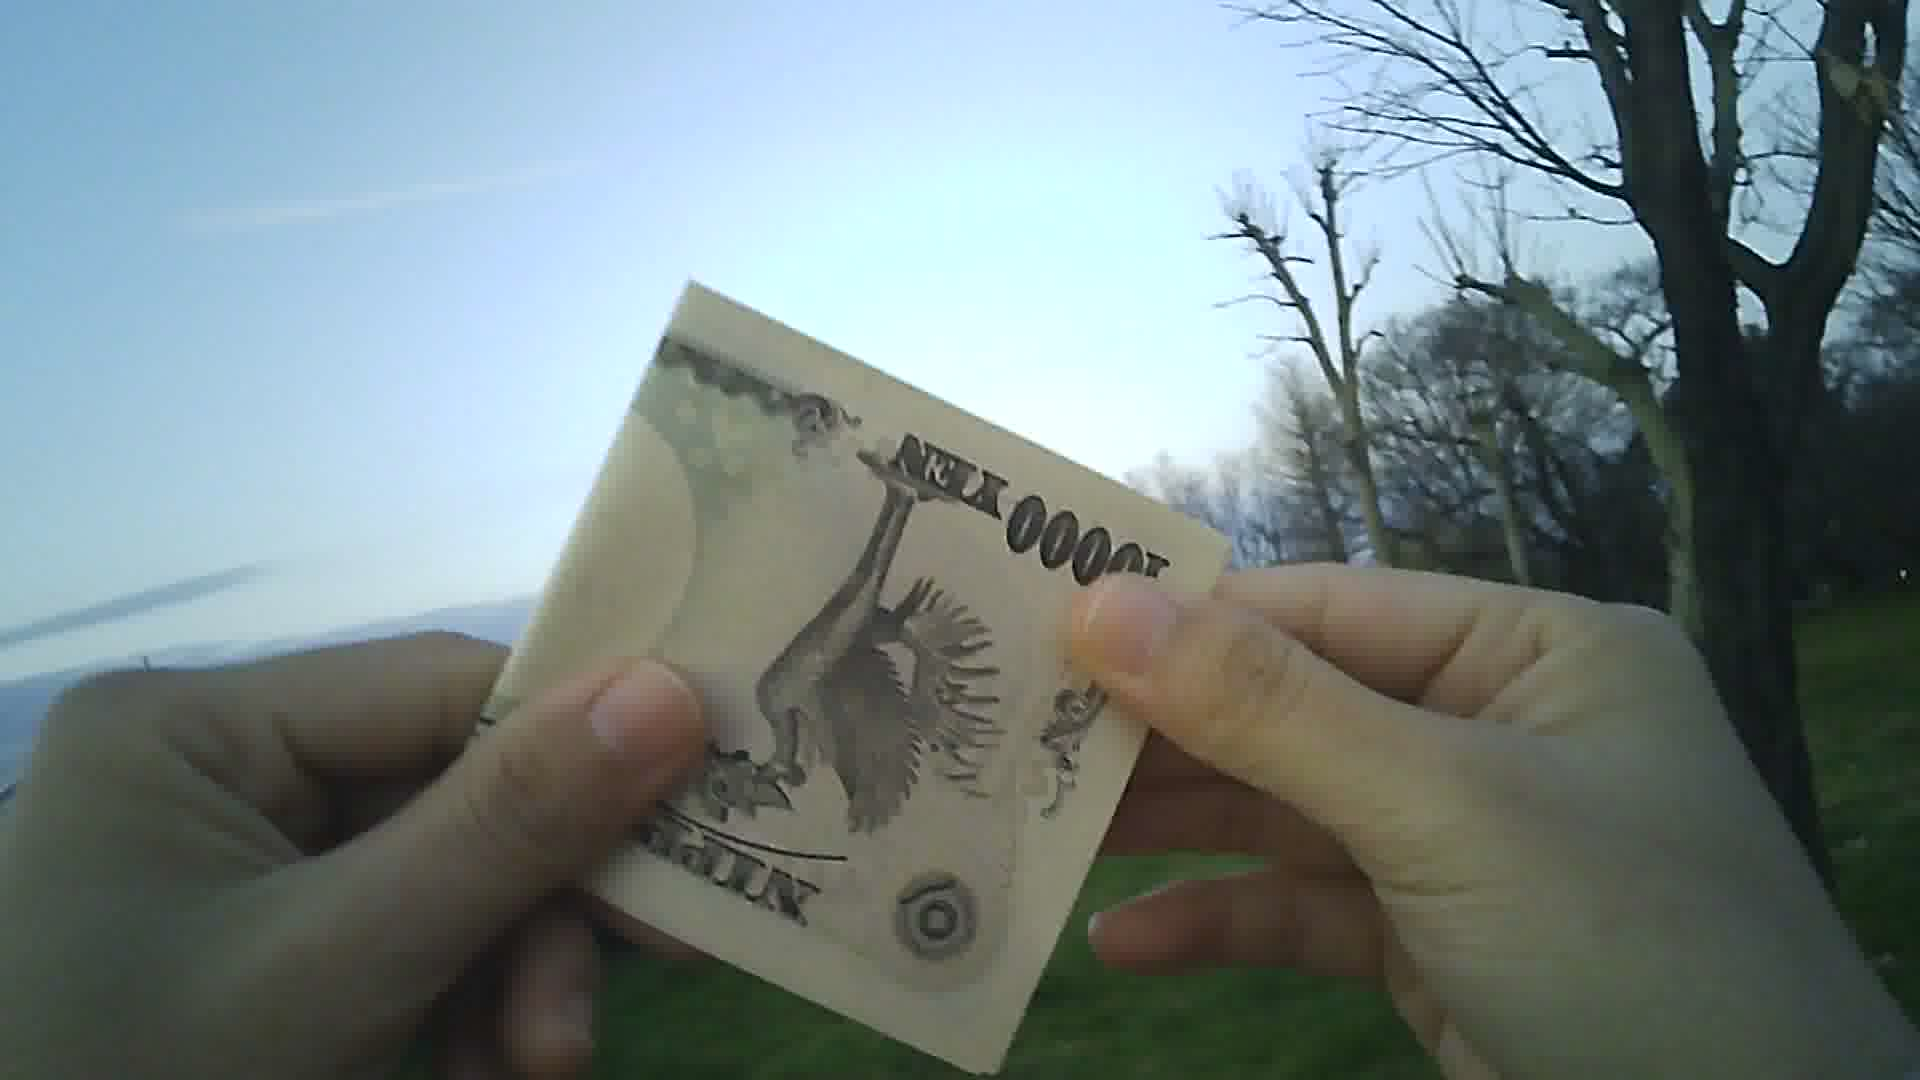10,000 Yen: (443, 225, 1215, 1033)
